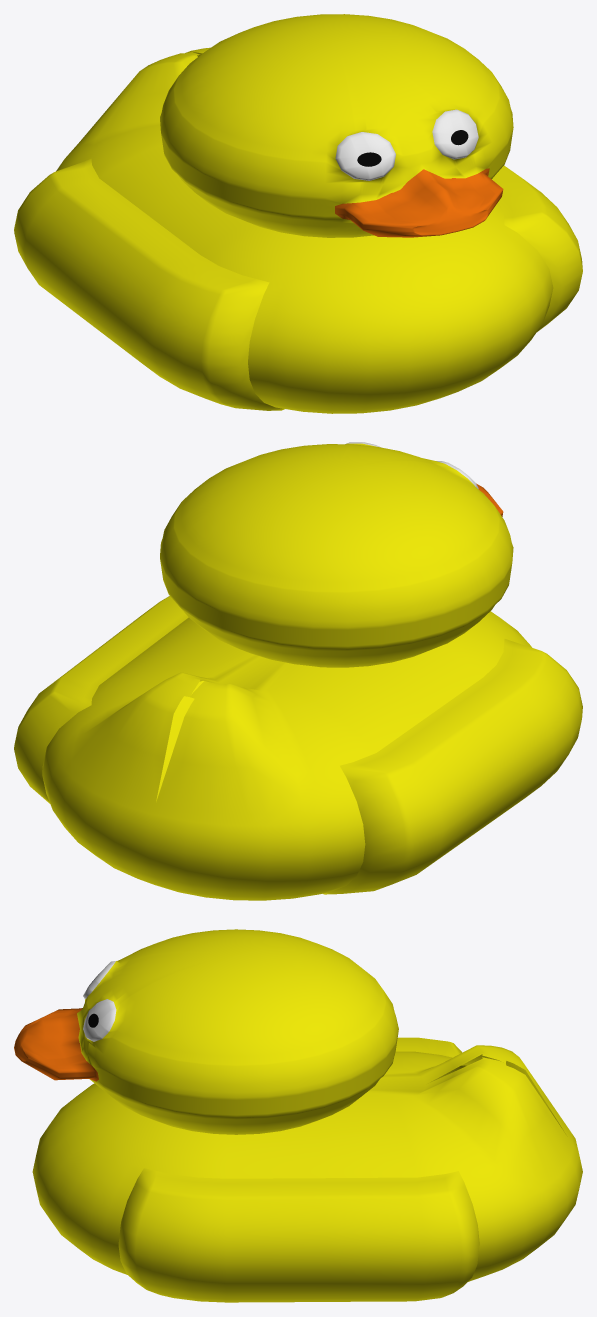
Rendered from DuckBoss.fbx.
3 renders of one model, top to bottom at view 1: azimuth 30°, elevation 25°; view 2: azimuth 150°, elevation 25°; view 3: azimuth 270°, elevation 25°, orthographic. The views are drawn at different scales.
Visible parts, largest first — view 1: DuckBoss; view 2: DuckBoss; view 3: DuckBoss.
Part boxes in pixels (box(x1,y1,x2,y2)): DuckBoss: box(14, 14, 582, 413); DuckBoss: box(14, 442, 582, 900); DuckBoss: box(14, 929, 582, 1302).
Size of the model in its own units: 124 by 92.25 by 156.
